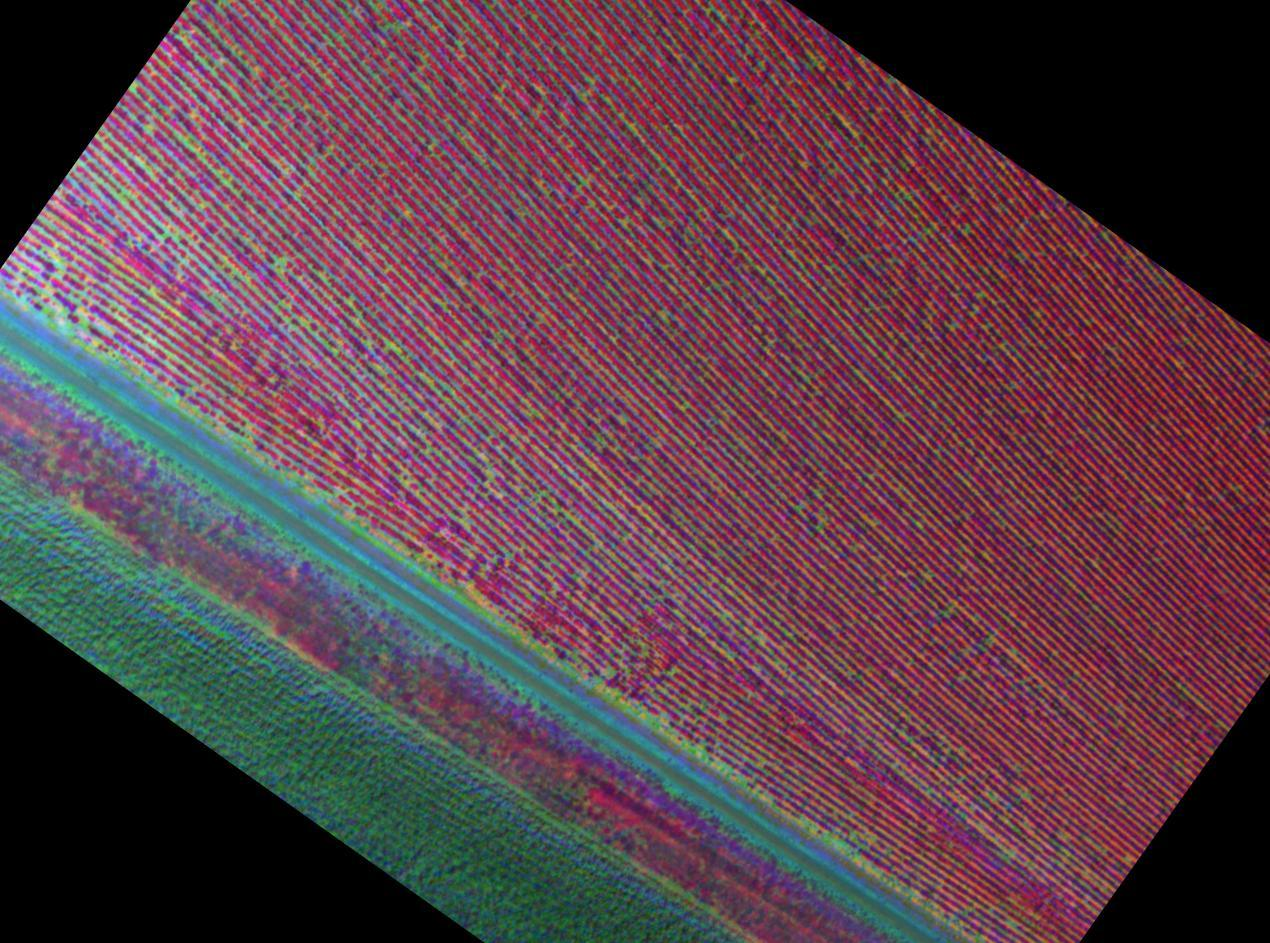dc: (388, 343, 393, 349), (607, 669, 612, 674), (852, 833, 856, 839), (542, 492, 546, 497), (622, 222, 626, 226), (279, 259, 283, 263), (281, 301, 285, 305), (701, 740, 705, 744), (1024, 795, 1028, 799), (659, 313, 664, 316), (1009, 852, 1012, 856), (722, 585, 724, 588)
